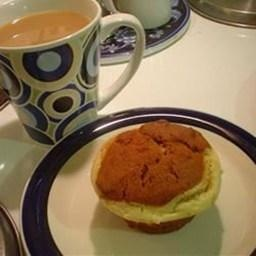background: (36, 46, 88, 93), (0, 4, 36, 18)
